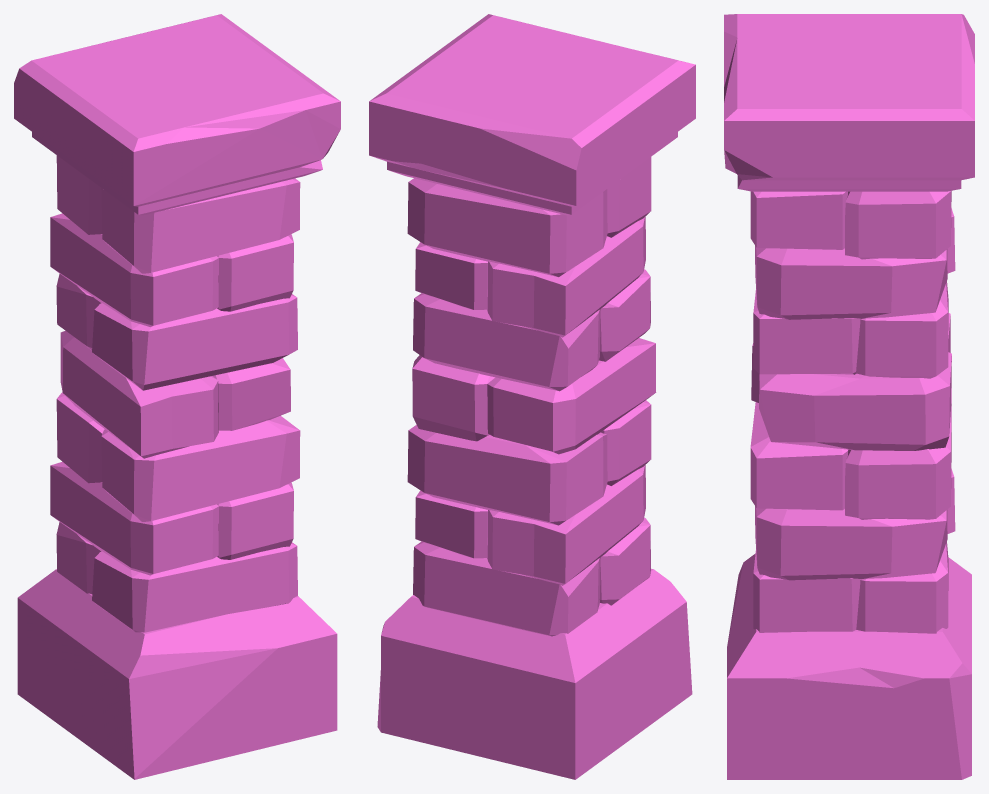
The model's file is SM_Arcade_Pillar_Fantasy.fbx.
The picture shows the model from 3 angles, left to right: view 1: azimuth 30°, elevation 25°; view 2: azimuth 150°, elevation 25°; view 3: azimuth 270°, elevation 25°; orthographic projection. The views are drawn at different scales.
Visible parts, largest first — view 1: SM_Arcade_Pillar_Fantasy; view 2: SM_Arcade_Pillar_Fantasy; view 3: SM_Arcade_Pillar_Fantasy.
Boxes of the visible parts, box(x1,y1,x2,y2) form: SM_Arcade_Pillar_Fantasy: box(14, 14, 340, 779); SM_Arcade_Pillar_Fantasy: box(369, 14, 695, 779); SM_Arcade_Pillar_Fantasy: box(724, 14, 974, 779).
Size of the model in its own units: 0.874 by 2.56 by 0.8724.
